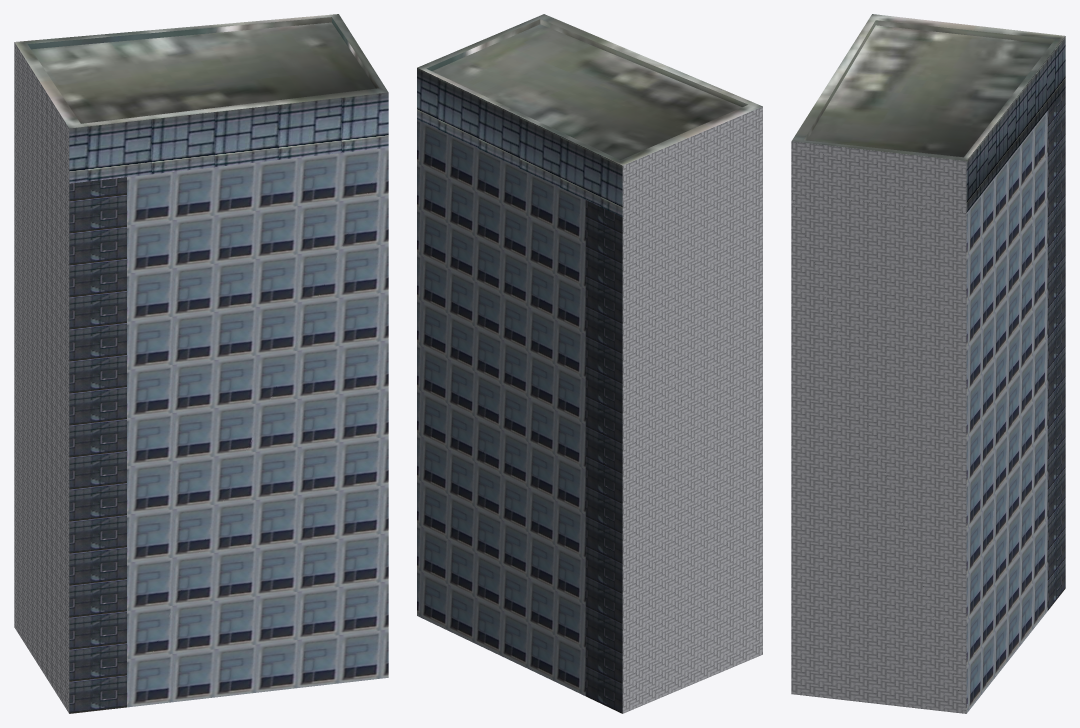
File: hall_city.dae
The picture shows the model from 3 angles, left to right: view 1: azimuth 30°, elevation 25°; view 2: azimuth 150°, elevation 25°; view 3: azimuth 270°, elevation 25°; orthographic projection. The views are drawn at different scales.
Visible parts, largest first — view 1: _Beige_1, Sketchy_Brick_Pavers_, _Brown_, Color_005, _Black_; view 2: _Beige_1, Sketchy_Brick_Pavers_, Color_005, _Brown_, _Black_; view 3: Sketchy_Brick_Pavers_, _Beige_1, Color_005, _Brown_, _Black_.
Boxes of the visible parts, x1,y1,x2,y2 form: _Beige_1: (127, 147, 388, 707); Sketchy_Brick_Pavers_: (14, 42, 69, 713); _Brown_: (69, 177, 126, 713); Color_005: (14, 14, 387, 128); _Black_: (69, 92, 388, 183); _Beige_1: (417, 119, 585, 695); Sketchy_Brick_Pavers_: (622, 106, 762, 713); Color_005: (417, 14, 762, 165); _Brown_: (585, 200, 622, 713); _Black_: (417, 68, 622, 217); Sketchy_Brick_Pavers_: (791, 141, 966, 713); _Beige_1: (966, 111, 1047, 713); Color_005: (792, 14, 1064, 160); _Brown_: (1047, 88, 1065, 610); _Black_: (966, 36, 1065, 212).
Bounding box in the file's own units: 37.66 × 29.64 × 65.95.
Materials: 5 (5 with a texture image).
